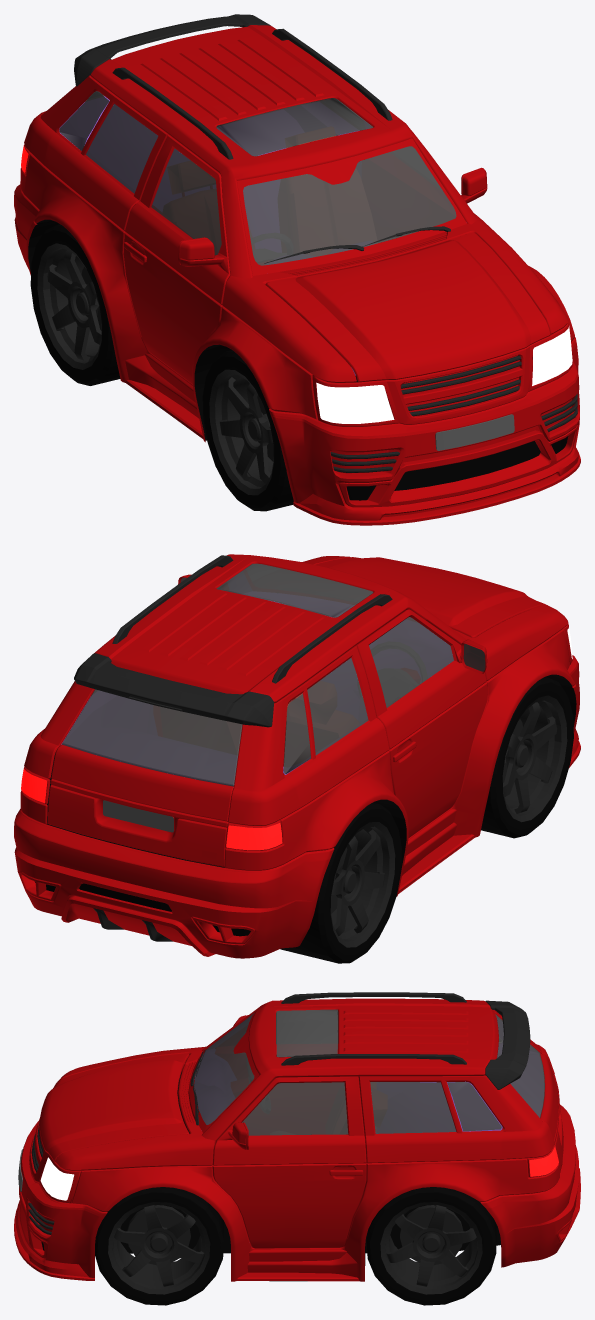
Rendered from fortuner.glb.
3 renders of one model, top to bottom at view 1: azimuth 30°, elevation 25°; view 2: azimuth 150°, elevation 25°; view 3: azimuth 270°, elevation 25°, orthographic. The views are drawn at different scales.
Parts seen in each view (by area): view 1: fortuner; view 2: fortuner; view 3: fortuner.
Part boxes in pixels (x1=…): fortuner: x1=14, y1=14, x2=580, y2=525; fortuner: x1=14, y1=554, x2=580, y2=963; fortuner: x1=14, y1=992, x2=580, y2=1305.
Size of the model in its own units: 0.3083 by 0.2748 by 0.6205.
